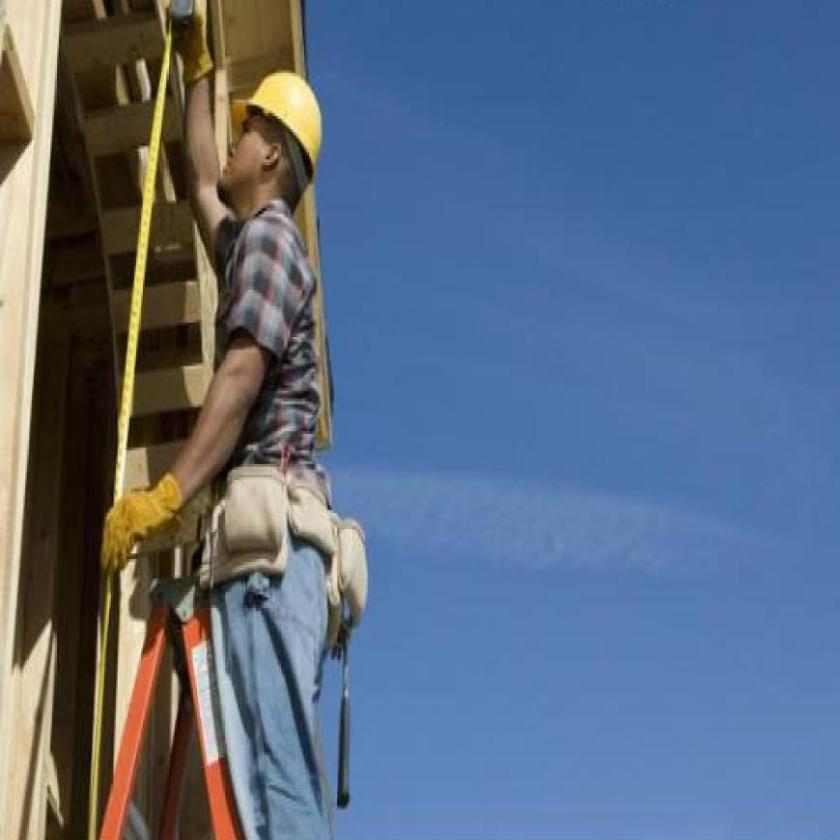Con_casco: (208, 68, 322, 217)
